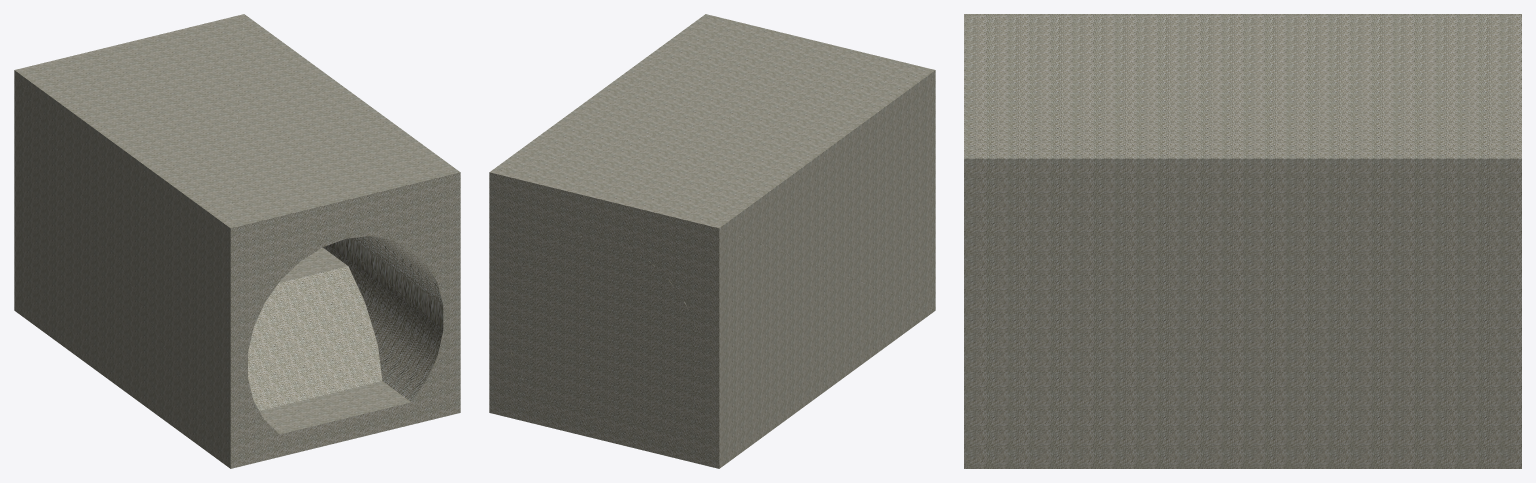
Rendered from ExcavThreeStep3.glb.
3 renders of one model, left to right at view 1: azimuth 30°, elevation 25°; view 2: azimuth 150°, elevation 25°; view 3: azimuth 270°, elevation 25°, orthographic. The views are drawn at different scales.
Bounding box in the file's own units: 16 × 16 × 26.08.
Materials: 1 (1 with a texture image).
